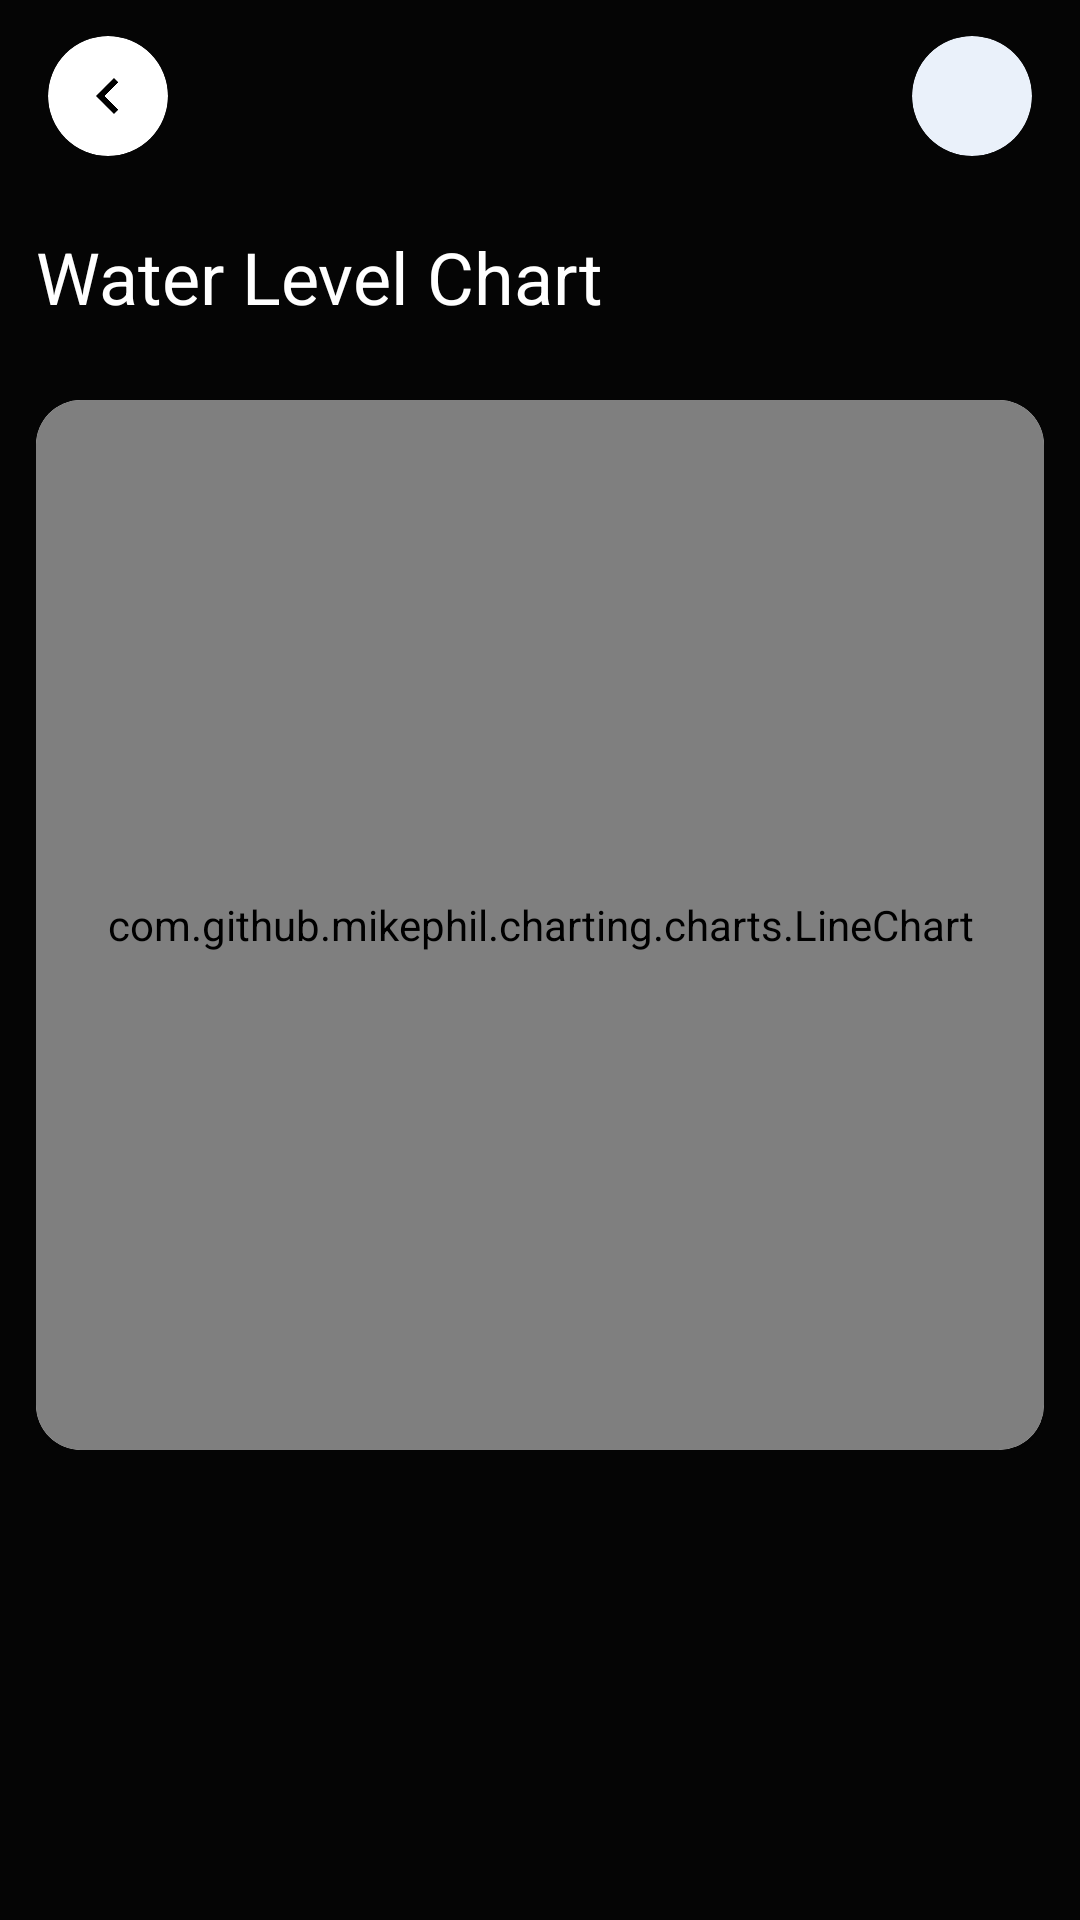

Screen size 1080*1920. Icon name, then its center in pixels as point (x, y):
left: point (107, 96)
